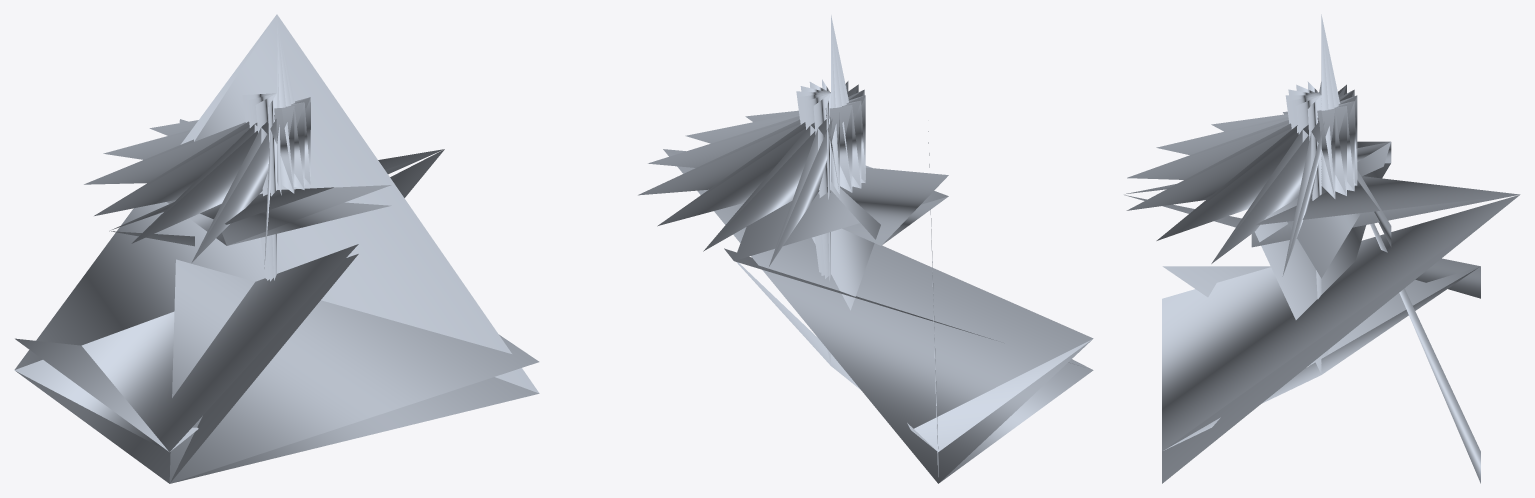
File: welding_symbols.glb
The picture shows the model from 3 angles, left to right: view 1: azimuth 30°, elevation 25°; view 2: azimuth 150°, elevation 25°; view 3: azimuth 270°, elevation 25°; orthographic projection. The views are drawn at different scales.
Parts seen in each view (by area): view 1: tool; view 2: tool; view 3: tool.
Boxes of the visible parts, bbox=[...] form: tool: bbox=[14, 14, 539, 483]; tool: bbox=[638, 15, 1093, 483]; tool: bbox=[1124, 14, 1520, 483].
Size of the model in its own units: 2.2 by 2.09 by 2.
